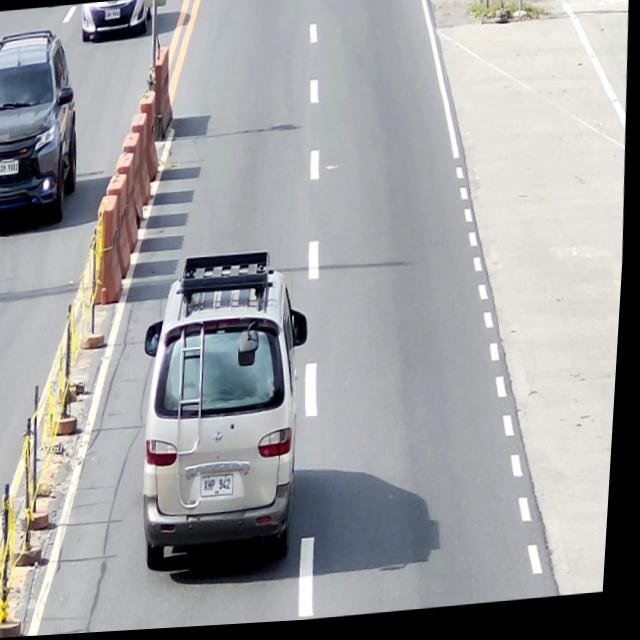Car: (134, 248, 323, 575), (0, 25, 87, 228), (79, 0, 152, 43)
License-Plate: (204, 473, 240, 500), (0, 155, 24, 180), (103, 7, 121, 22)
